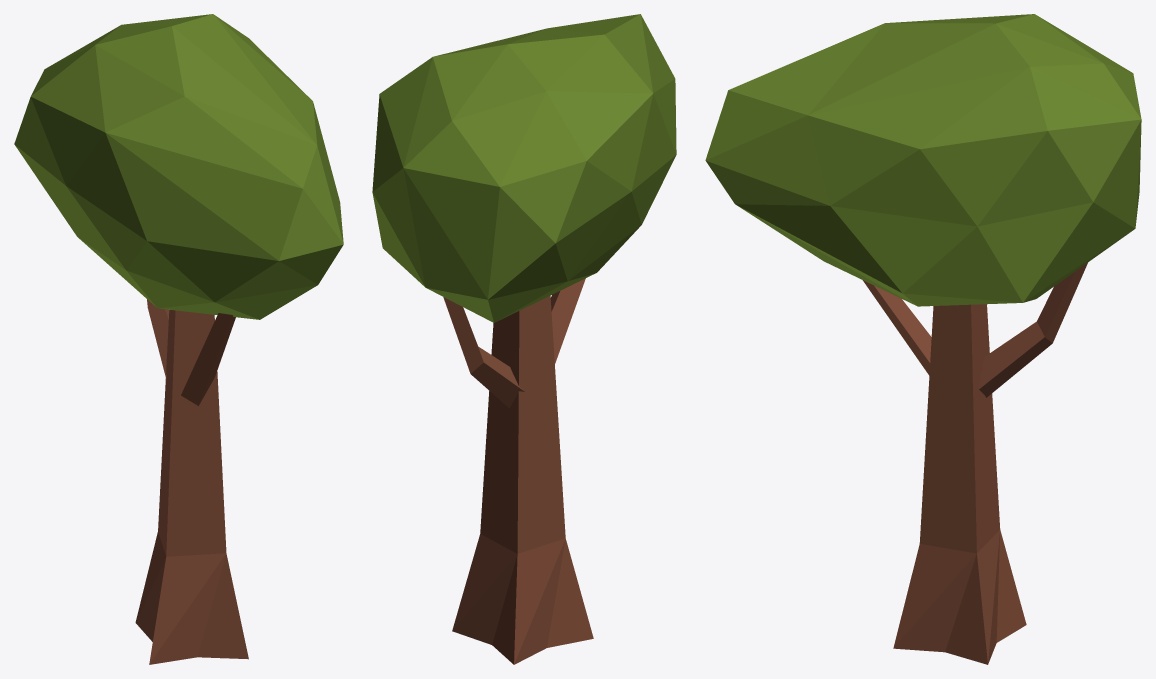
The model's file is Tree_37_autumn_vc.fbx.
The picture shows the model from 3 angles, left to right: view 1: azimuth 30°, elevation 25°; view 2: azimuth 150°, elevation 25°; view 3: azimuth 270°, elevation 25°; orthographic projection.
Parts seen in each view (by area): view 1: Tree_37_autumn_vc; view 2: Tree_37_autumn_vc; view 3: Tree_37_autumn_vc.
Boxes of the visible parts, x1,y1,x2,y2 form: Tree_37_autumn_vc: [14, 14, 343, 664]; Tree_37_autumn_vc: [372, 14, 676, 664]; Tree_37_autumn_vc: [705, 14, 1141, 664].
Size of the model in its own units: 2.44 by 6.07 by 3.92.
